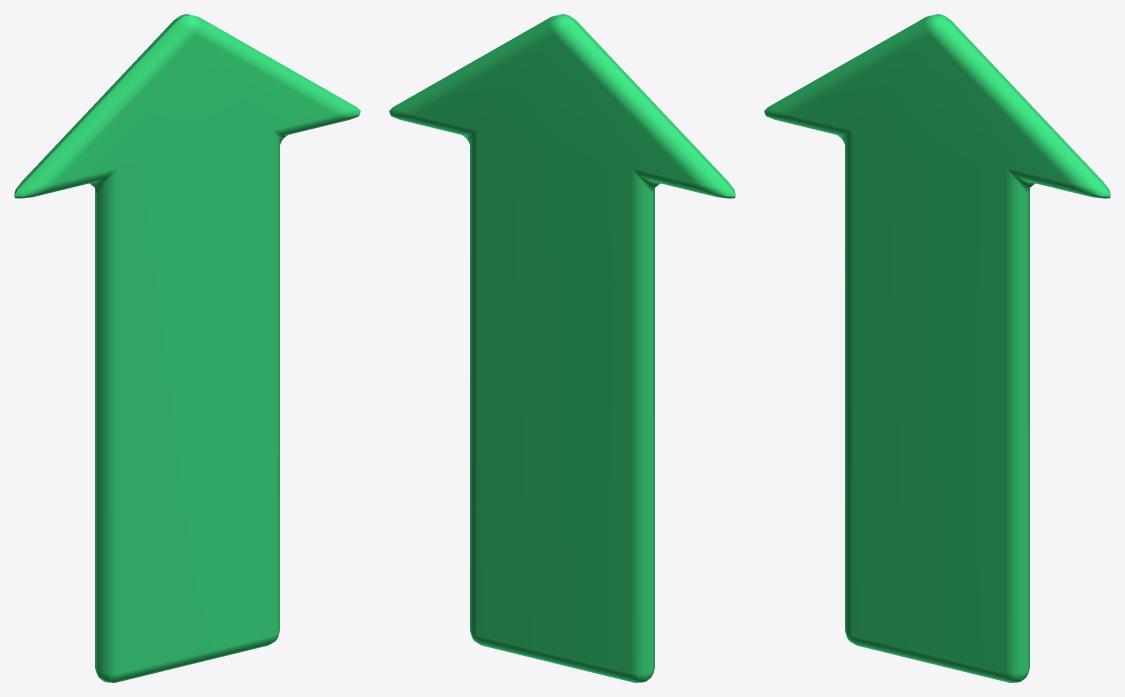
File: greenUpArrow.glb
3 renders of one model, left to right at view 1: azimuth 30°, elevation 25°; view 2: azimuth 150°, elevation 25°; view 3: azimuth 330°, elevation 25°, orthographic.
Parts seen in each view (by area): view 1: Plane.002_green_0; view 2: Plane.002_green_0; view 3: Plane.002_green_0.
Boxes of the visible parts, <box> form: Plane.002_green_0: <box>14,14,360,682</box>; Plane.002_green_0: <box>389,14,735,682</box>; Plane.002_green_0: <box>764,14,1110,682</box>.
Size of the model in its own units: 0.5037 by 0.8989 by 0.0404.
